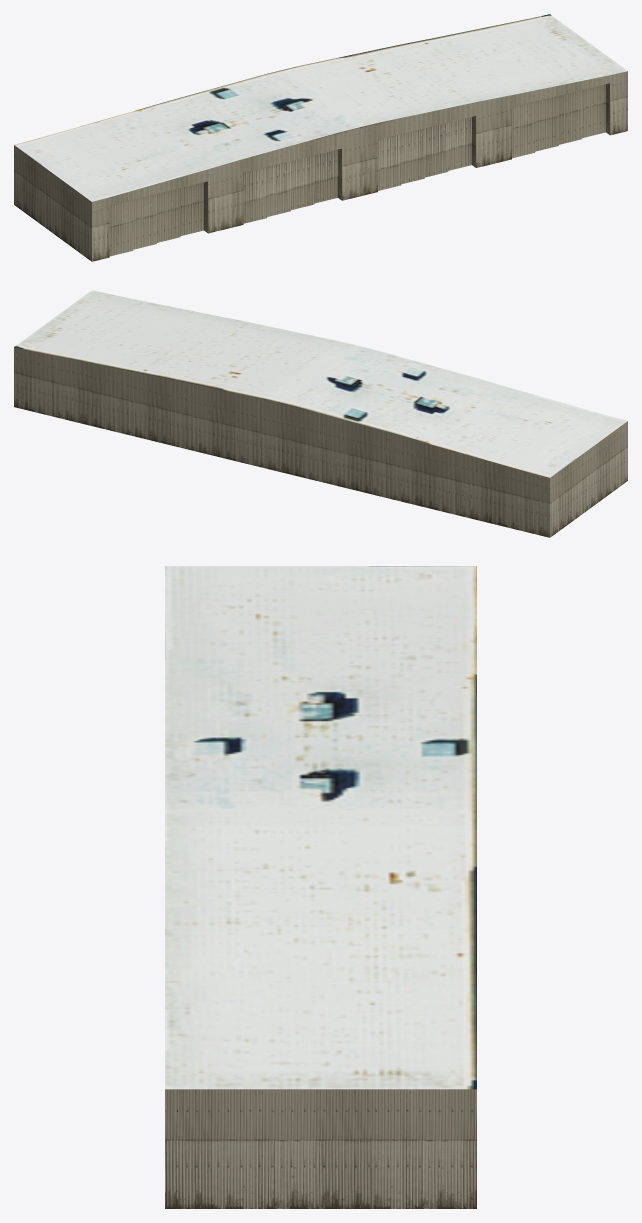
File: Hangar3.gltf
3 views of the same model, one above another, from view 1: azimuth 30°, elevation 25°; view 2: azimuth 150°, elevation 25°; view 3: azimuth 270°, elevation 25° (orthographic). The views are drawn at different scales.
Visible parts, largest first — view 1: Hangar3; view 2: Hangar3; view 3: Hangar3.
Part boxes in pixels (x1,y1,x2,y2): Hangar3: (14,14,627,261); Hangar3: (14,290,627,537); Hangar3: (165,566,476,1208).
Bounding box in the file's own units: 75.18 × 9.29 × 18.94.
Materials: 1 (1 with a texture image).
